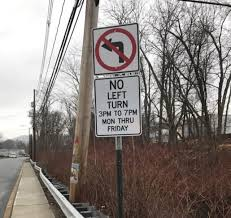No_left_turn: (95, 28, 136, 70)
